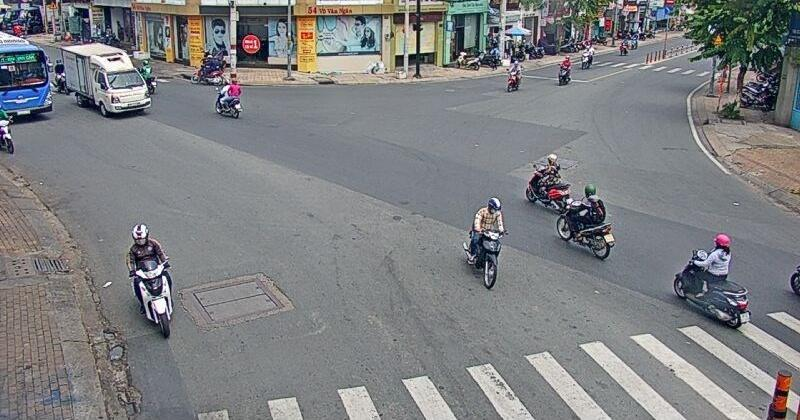xe may: (673, 234, 750, 329), (127, 224, 173, 336), (556, 183, 614, 260), (462, 197, 504, 289), (525, 153, 570, 214), (214, 80, 242, 118), (504, 60, 522, 92)
xe tai: (61, 42, 152, 118)
